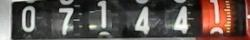digits: (133, 5, 152, 34), (172, 6, 191, 34), (58, 6, 74, 34), (21, 6, 36, 34), (208, 0, 224, 26), (96, 0, 108, 30)
